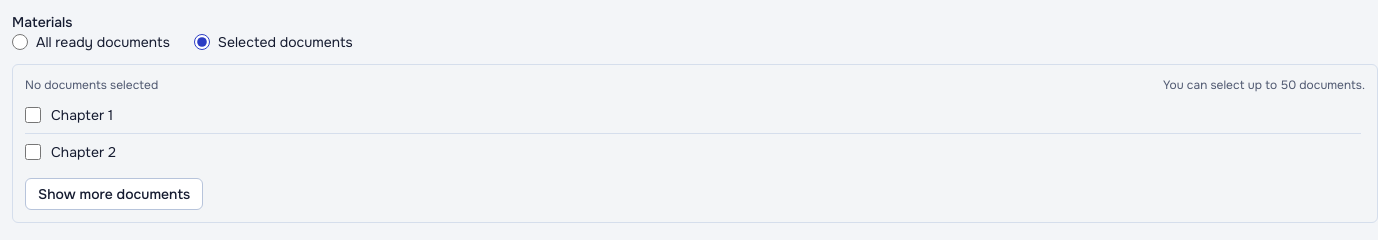
Test: DocumentScopePicker › loads additional document pages via Show more documents
The image size is (1378, 240).
Expected: the checkbox labelled "Chapter 1" is shown, [25,107,41,123]
Expected: the checkbox labelled "Chapter 3" is not shown
Step 1. Click the button "Show more documents" → (114, 194), box [25,178,203,210]
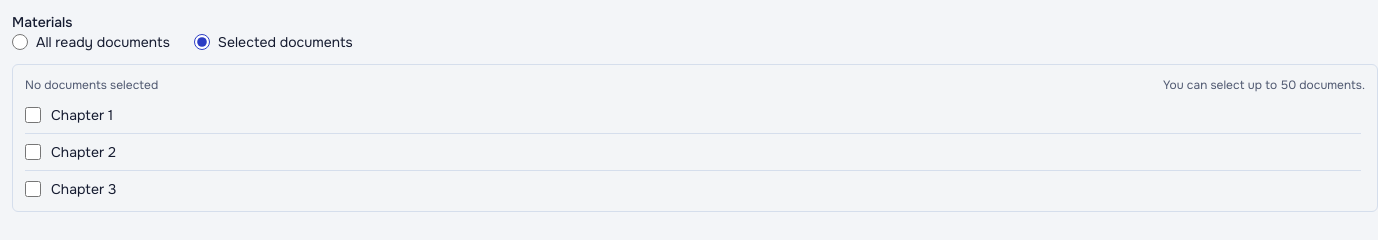
Now the checkbox labelled "Chapter 3" is shown, box [25,181,41,197]
Now the button "Show more documents" is gone
